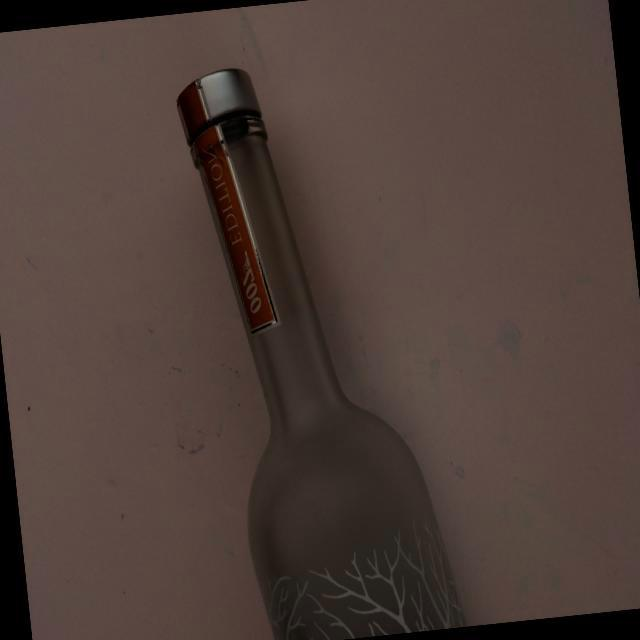glass: (163, 39, 470, 640)
